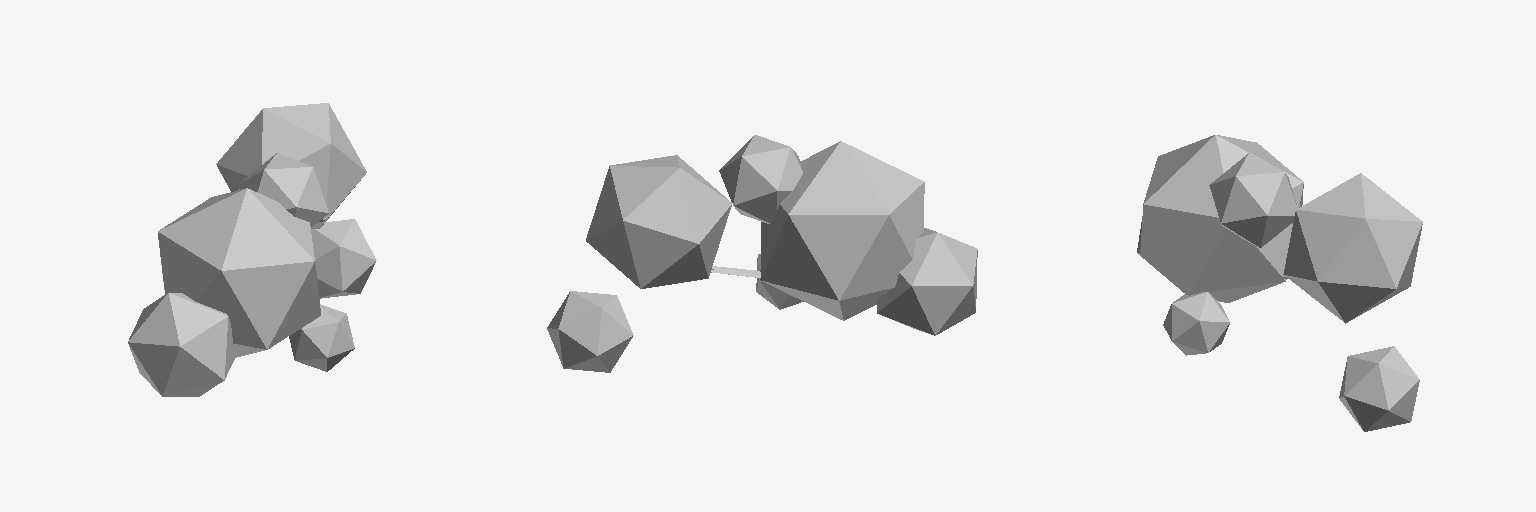
Rendered from tree_leaves.obj.
3 views of the same model, side by side, from view 1: azimuth 30°, elevation 25°; view 2: azimuth 150°, elevation 25°; view 3: azimuth 270°, elevation 25° (orthographic).
Visible parts, largest first — view 1: Tree_lp_11; view 2: Tree_lp_11; view 3: Tree_lp_11.
Boxes of the visible parts, x1,y1,x2,y2 form: Tree_lp_11: [128, 103, 376, 396]; Tree_lp_11: [547, 135, 977, 372]; Tree_lp_11: [1137, 135, 1422, 431].
Bounding box in the file's own units: 27.98 × 17.06 × 20.8.